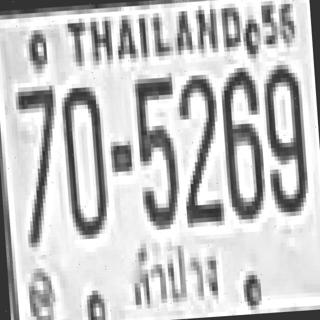N00: (57, 82, 108, 236)
N02: (174, 72, 222, 221), (174, 72, 220, 208)
N05: (131, 73, 179, 226)
N06: (217, 64, 264, 218)
N07: (14, 83, 62, 241), (14, 83, 59, 198), (14, 81, 59, 187)
N09: (259, 59, 307, 213)
P20: (119, 227, 226, 316)
